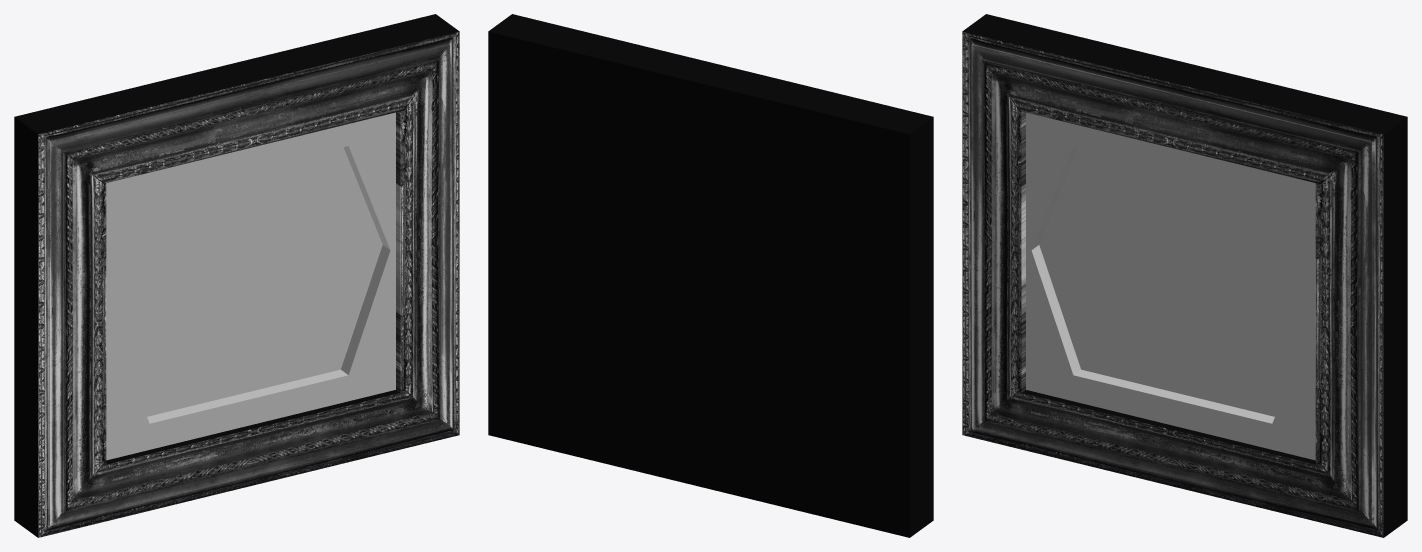
Rendered from picture frame 3.fbx.
The picture shows the model from 3 angles, left to right: view 1: azimuth 30°, elevation 25°; view 2: azimuth 150°, elevation 25°; view 3: azimuth 330°, elevation 25°; orthographic projection.
Parts seen in each view (by area): view 1: pCube1; view 2: pCube1; view 3: pCube1.
Part boxes in pixels (<box>): pCube1: <box>14,14,459,537</box>; pCube1: <box>488,14,933,537</box>; pCube1: <box>962,14,1407,537</box>.
Size of the model in its own units: 2.99 by 2.73 by 0.3487.
